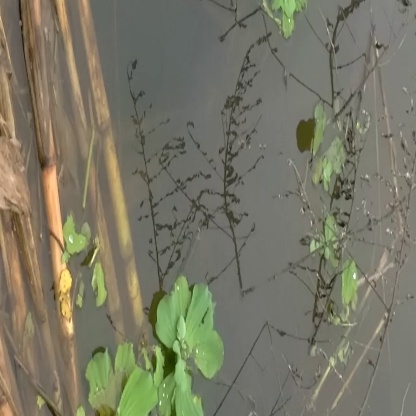leaf: (152, 270, 230, 377)
